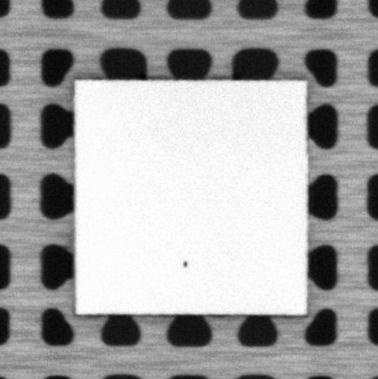DIE_INK: (181, 257, 189, 270)
